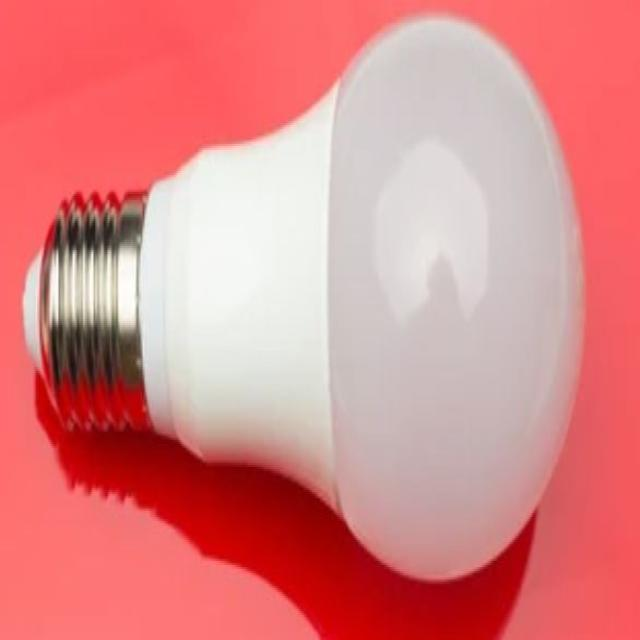electronic: (21, 12, 586, 586), (326, 12, 586, 584)
